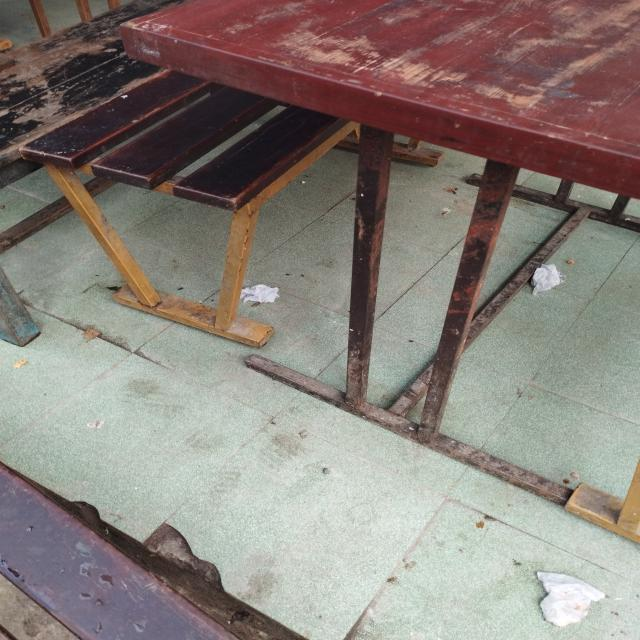paper: (529, 572, 605, 626), (532, 262, 562, 295), (240, 281, 280, 305)
